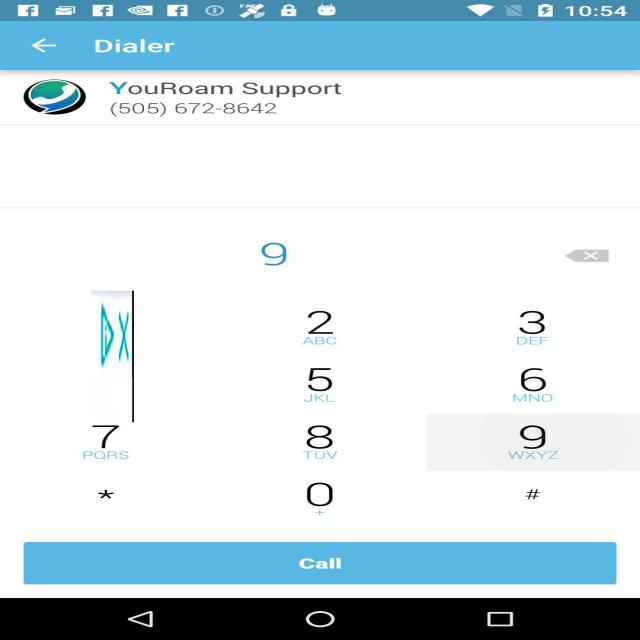sneaking: (91, 291, 134, 422)
